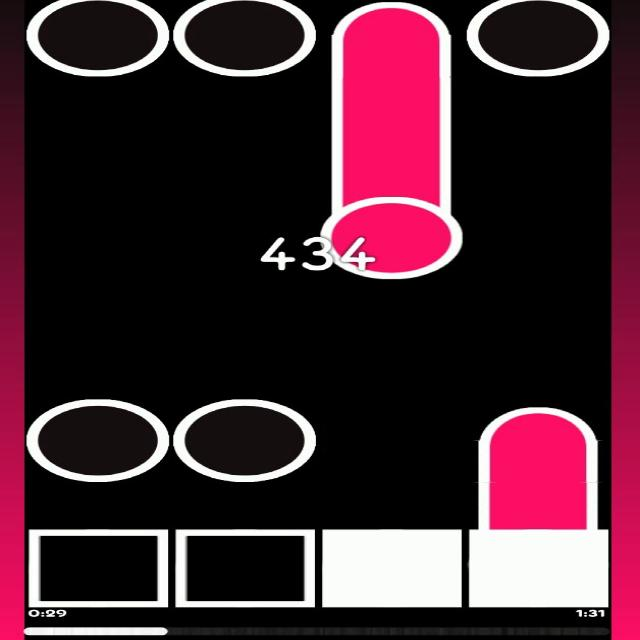end_hold: (325, 0, 457, 49), (476, 404, 598, 448)
note: (28, 398, 170, 482), (178, 398, 318, 482), (466, 0, 611, 77), (173, 0, 314, 77), (29, 0, 168, 77)
start_hold: (320, 180, 464, 278)
